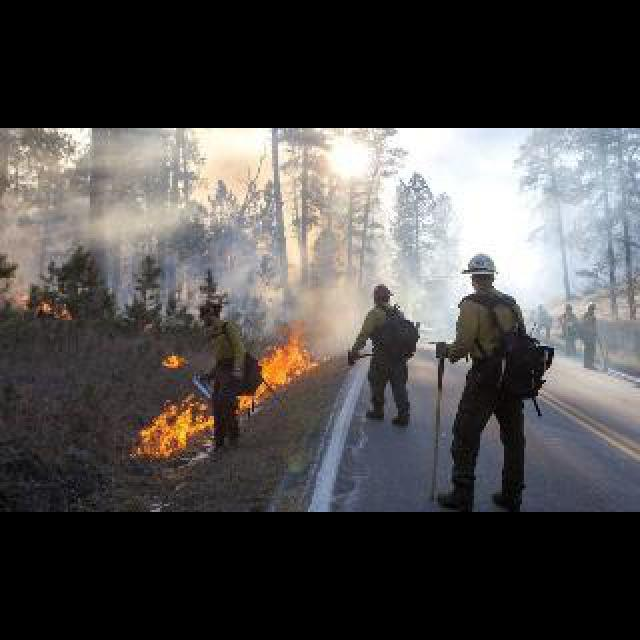fire: (0, 134, 623, 279)
smoke: (236, 328, 326, 408), (140, 390, 212, 456), (12, 288, 68, 318), (162, 352, 182, 366)
